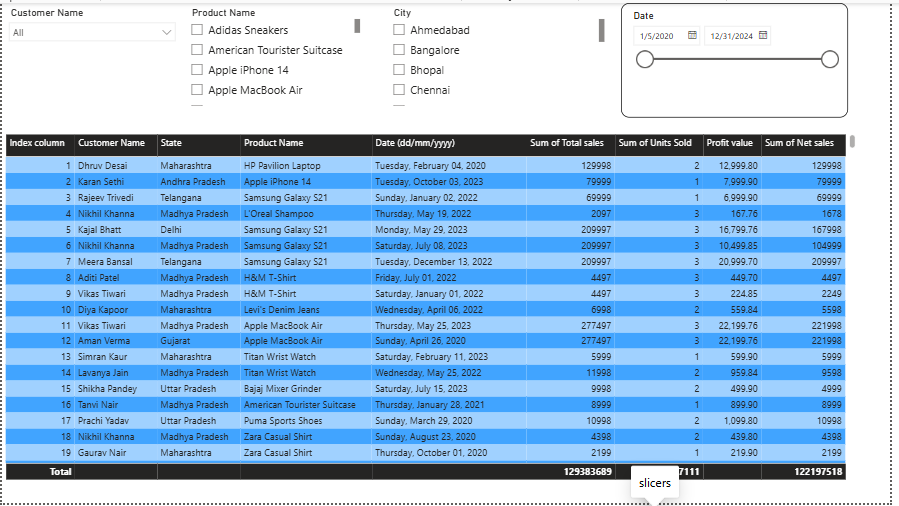

What the dashboard file says about the page in this screenshot:
{"tool":"powerbi","page":{"name":"slicers","canvas":[1280,720],"ordinal":4},"visuals":[{"type":"slicer","fields":{"Values":["Dim Customers.Customer Name"]},"box":[0,0,260,165],"z":1000},{"type":"slicer","fields":{"Values":["Dim Product.Product Name"]},"box":[260,0,260,152.9],"z":2000},{"type":"slicer","fields":{"Values":["Dim Customers.City"]},"box":[551.4,0,321.4,152.9],"z":3000},{"type":"slicer","fields":{"Values":["date table 1.Date"]},"box":[891.7,0,326.7,165],"z":4000},{"type":"tableEx","fields":{"Values":["fact table.Index column","Dim Customers.Customer Name","Dim Customers.State","Dim Product.Product Name","fact table.Date (dd/mm/yyyy)","Sum(fact table.Total sales)","Sum(fact table.Units Sold)","fact table.Profit value","Sum(fact table.Net sales)"]},"box":[0,184.3,1234.3,507.1],"z":4001}]}

Visuals, with their boxes in screenshot pixels (x1, y1, x2, y2), scaled from the page's 1280x720 canvas onto the 899x506 screenshot:
slicer - Dim Customers.Customer Name: locate(0, 0, 183, 116)
slicer - Dim Product.Product Name: locate(183, 0, 365, 107)
slicer - Dim Customers.City: locate(387, 0, 613, 107)
slicer - date table 1.Date: locate(626, 0, 856, 116)
tableEx - fact table.Index column x Dim Customers.Customer Name: locate(0, 130, 867, 486)
